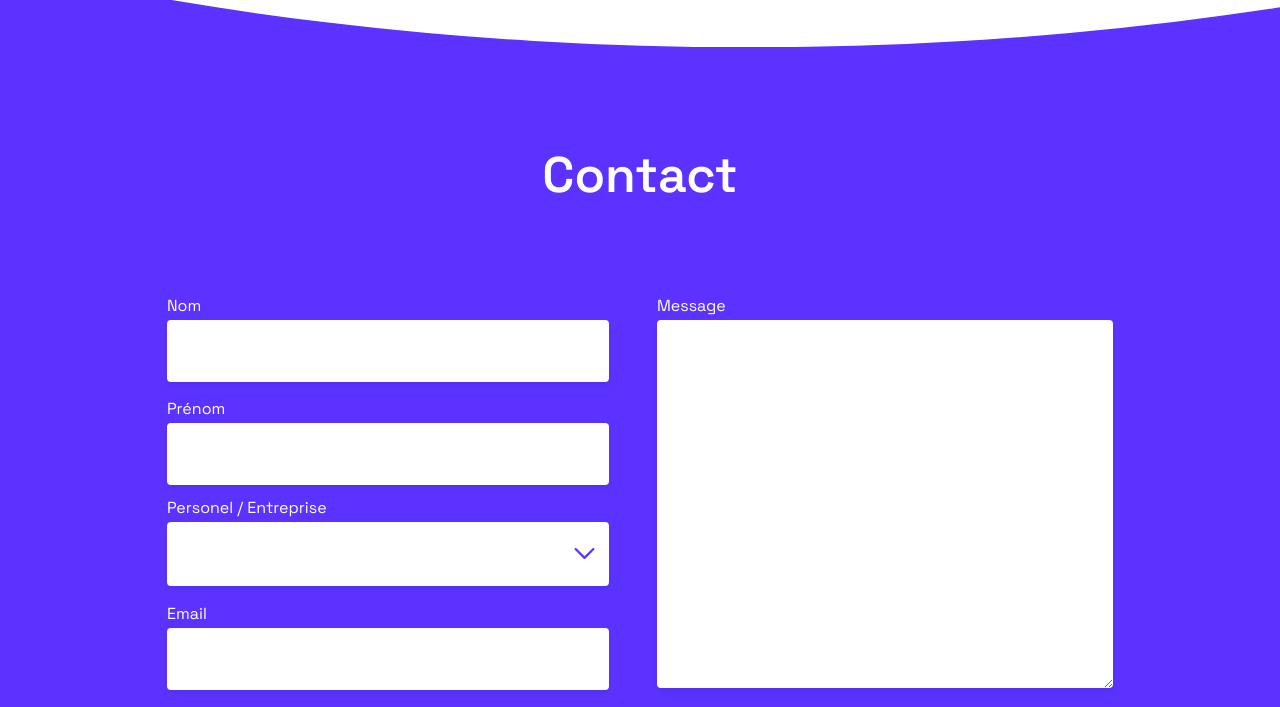
Test case: Contact form › Envoyer un formulaire de contact avec succès et afficher le message de confirmation
(page scrolled)
In the 1st field named "nom": x=388, y=351 [167,320,609,382], type "Doe"
In the field named "prenom" below "Prénom": x=388, y=454 [167,423,609,485], type "John"
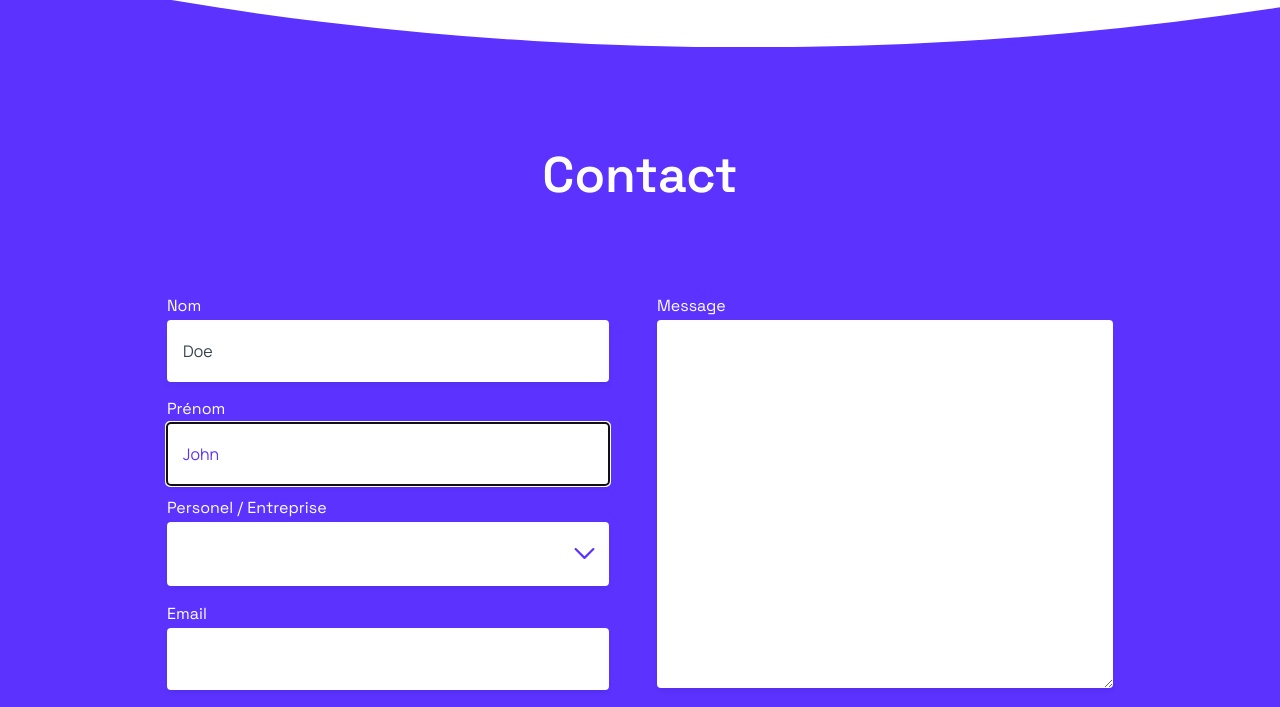
Click the button with test id "collapse-button-testid": x=585, y=554 [568,538,601,570]
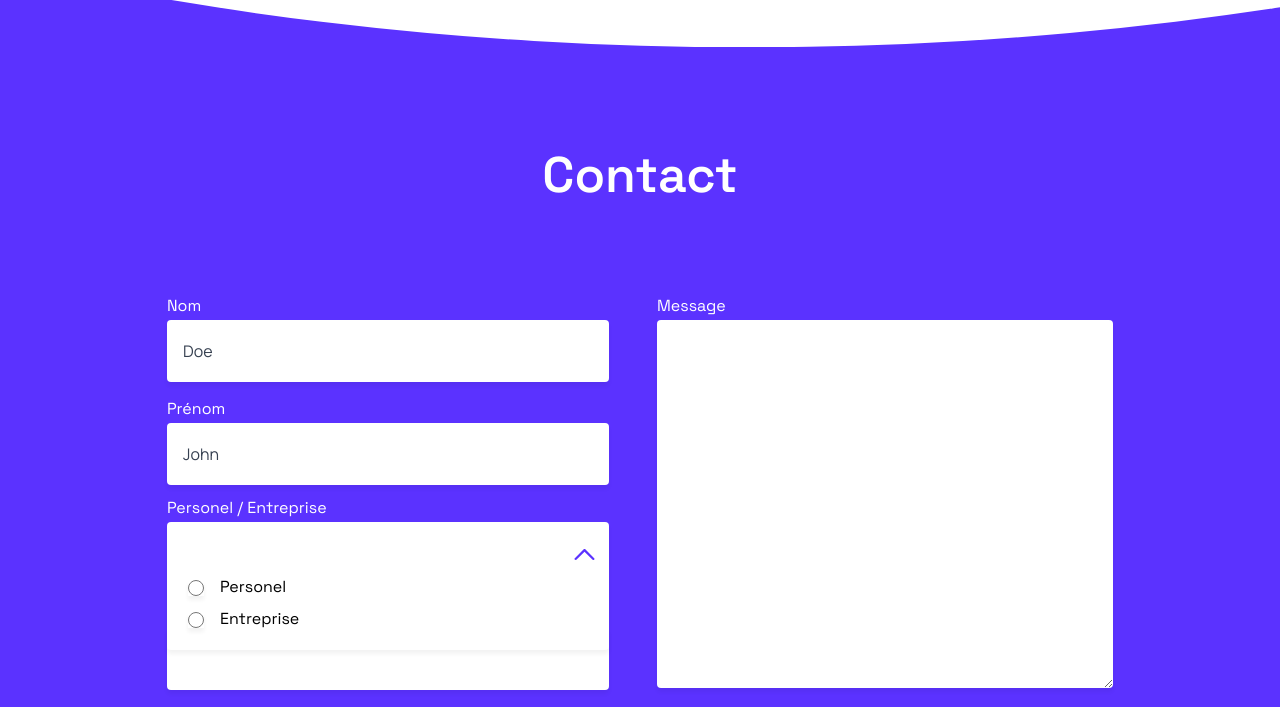
Click the list item "Entreprise": x=244, y=619 [188,608,299,629]
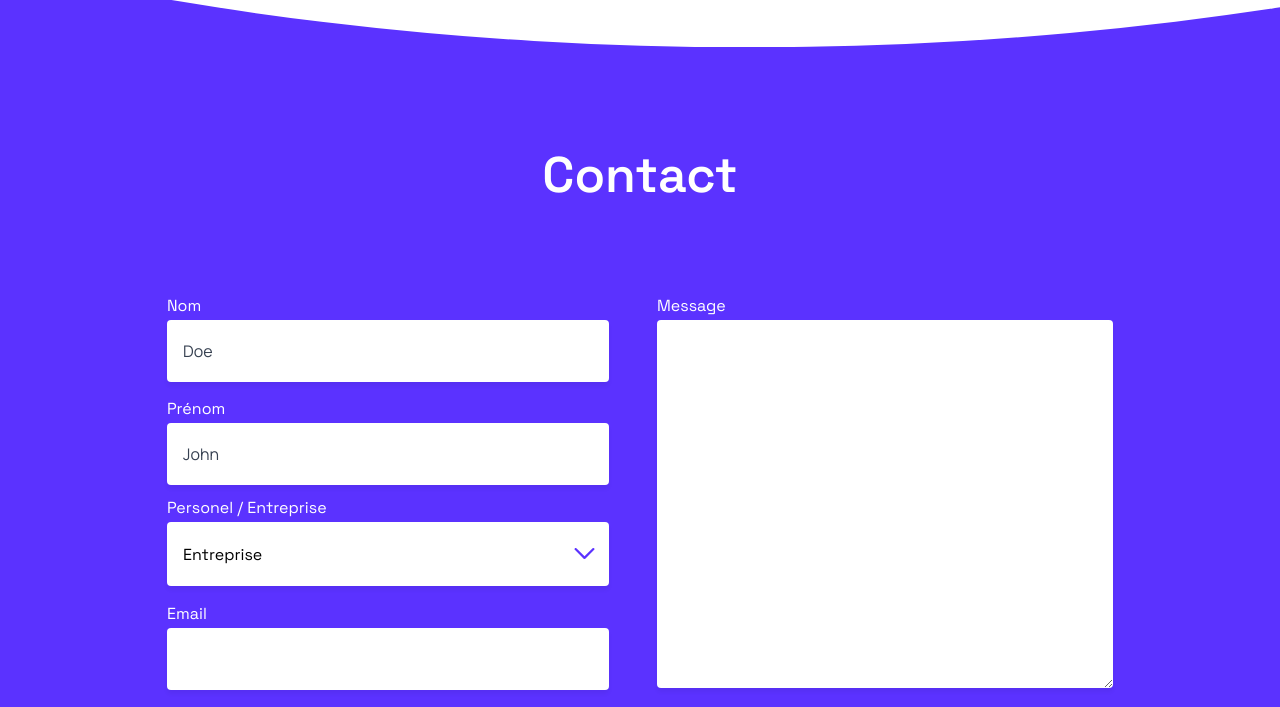
In the field named "email" below "Email": x=388, y=659 [167,628,609,690], type "john.doe@example.com"
In the text box named "message": x=885, y=504 [657,320,1113,688], type "Bonjour, ceci est un message de test."
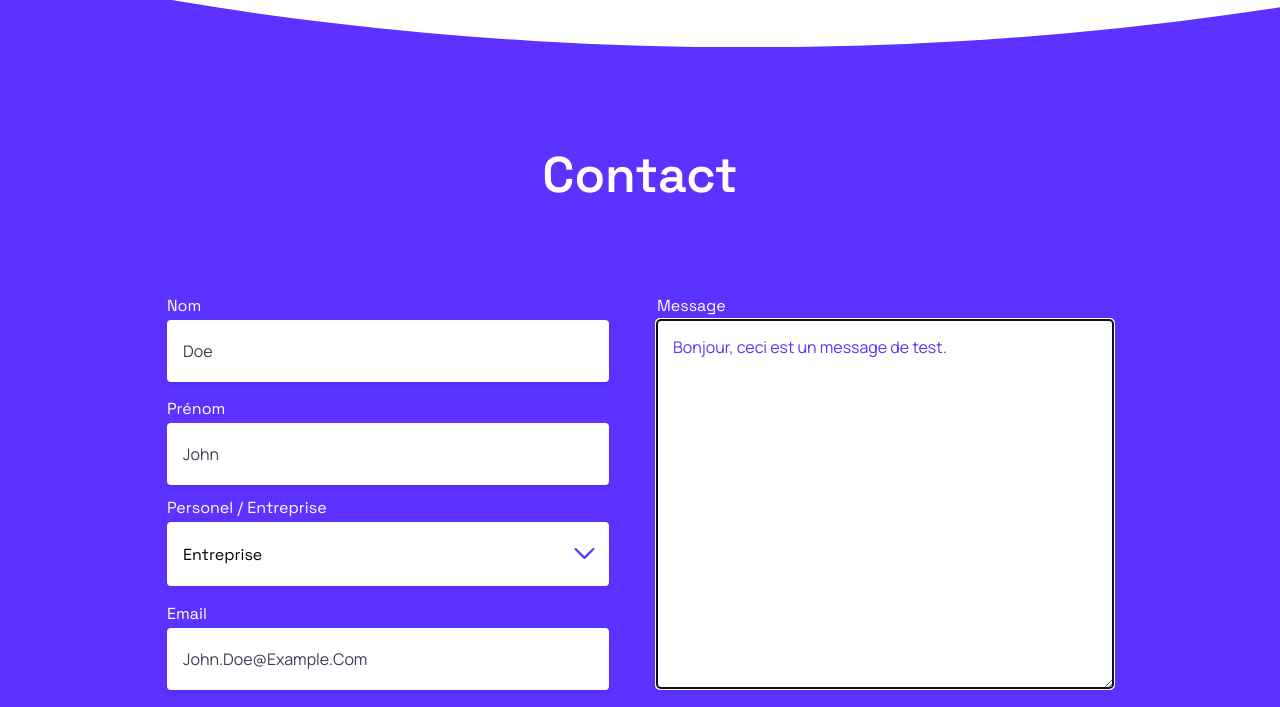
Scroll
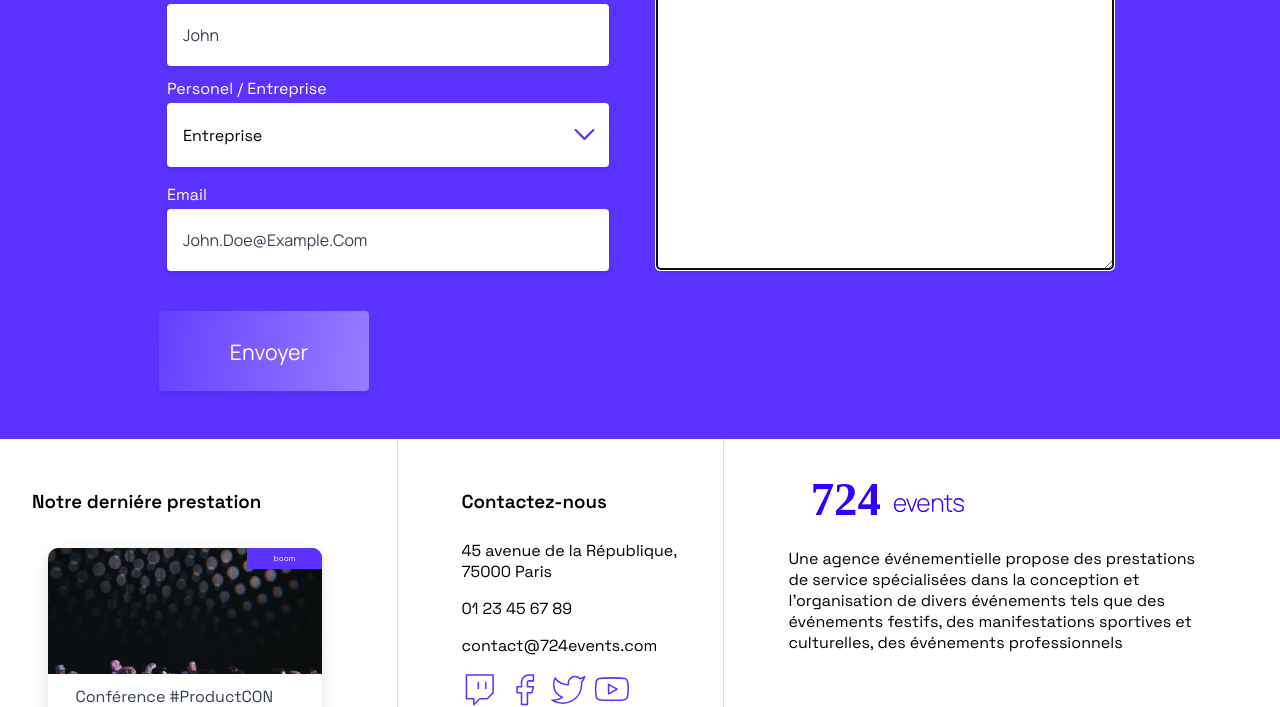
Click the button with test id "button-test-id": x=264, y=351 [159,311,369,391]
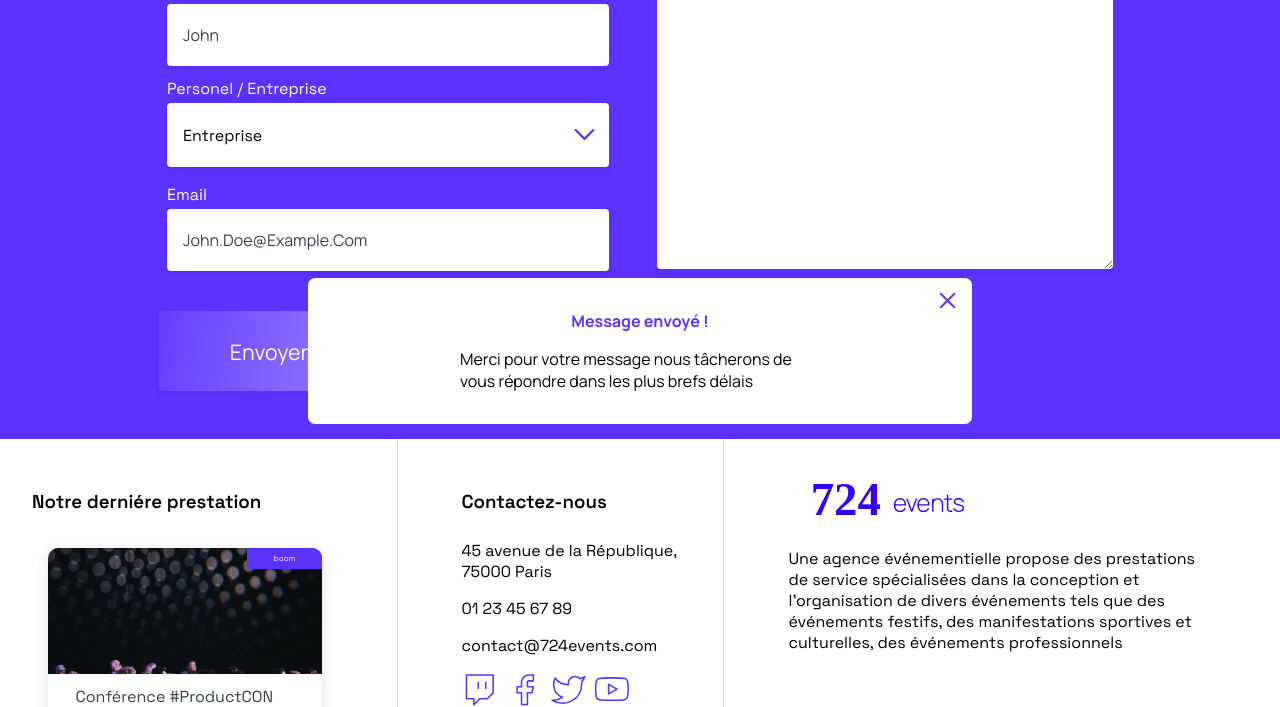
Now the text "Message envoyé !" is shown, box [571,310,709,332]
